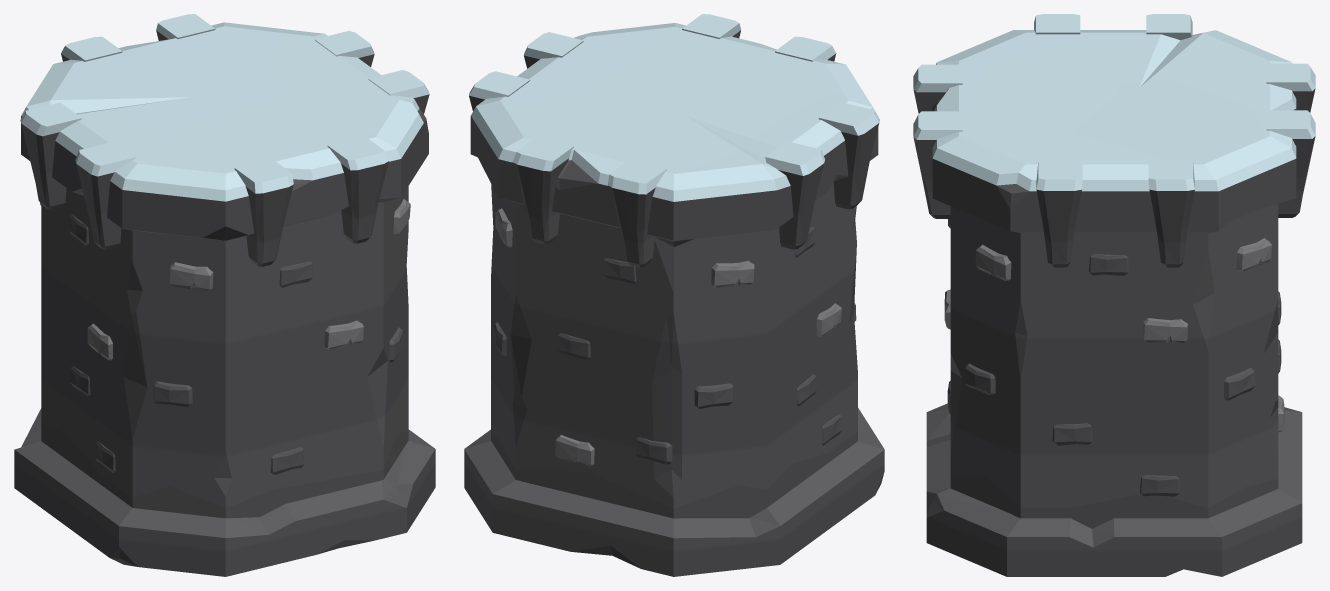
File: SM_Bld_Castle_Tower_01_Snow.gltf
3 views of the same model, side by side, from view 1: azimuth 30°, elevation 25°; view 2: azimuth 150°, elevation 25°; view 3: azimuth 270°, elevation 25° (orthographic). The views are drawn at different scales.
Visible parts, largest first — view 1: SM_Bld_Castle_Tower_01_Snow; view 2: SM_Bld_Castle_Tower_01_Snow; view 3: SM_Bld_Castle_Tower_01_Snow.
Boxes of the visible parts, <box> form: SM_Bld_Castle_Tower_01_Snow: <box>14,14,435,576</box>; SM_Bld_Castle_Tower_01_Snow: <box>464,14,884,576</box>; SM_Bld_Castle_Tower_01_Snow: <box>913,14,1315,576</box>.
Size of the model in its own units: 2.78 by 3.11 by 2.78.
1 material, 1 textured.
